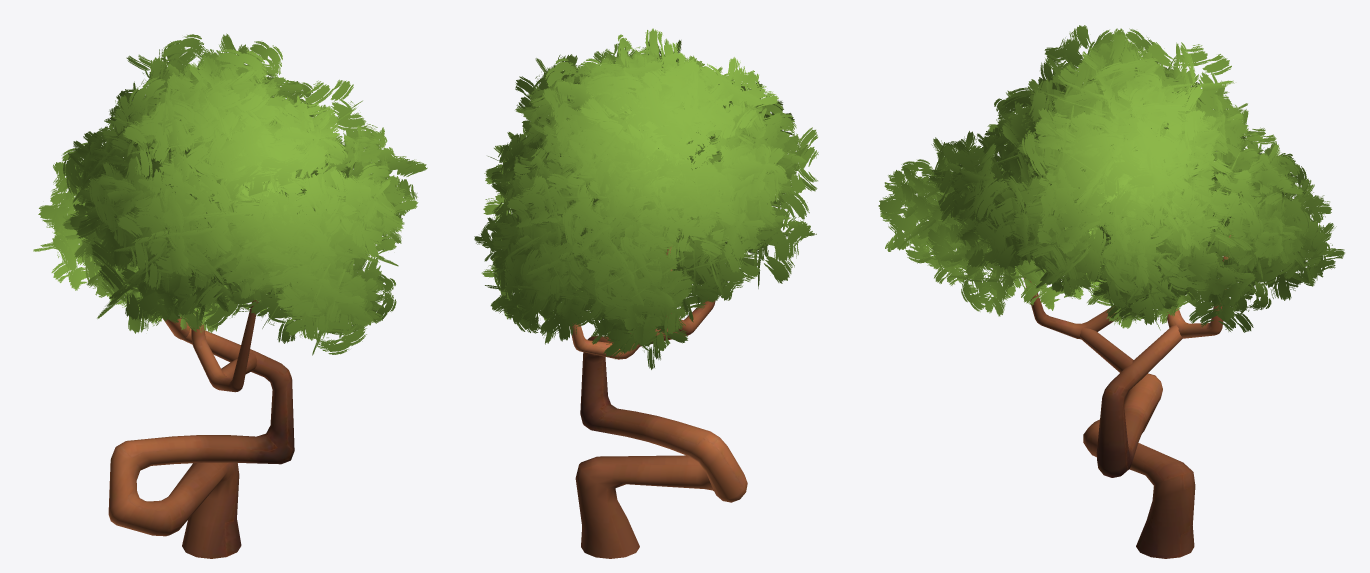
The model's file is STSwiggly3.glb.
3 renders of one model, left to right at view 1: azimuth 30°, elevation 25°; view 2: azimuth 150°, elevation 25°; view 3: azimuth 270°, elevation 25°, orthographic. The views are drawn at different scales.
Parts seen in each view (by area): view 1: STSwiggly3_Leaves, STSwiggly3_Trunk; view 2: STSwiggly3_Leaves, STSwiggly3_Trunk; view 3: STSwiggly3_Leaves, STSwiggly3_Trunk.
Part boxes in pixels (box(x1,y1,x2,y2)): STSwiggly3_Leaves: box(33, 33, 427, 355); STSwiggly3_Trunk: box(108, 300, 294, 558); STSwiggly3_Leaves: box(474, 28, 818, 369); STSwiggly3_Trunk: box(570, 247, 747, 558); STSwiggly3_Leaves: box(878, 25, 1344, 332); STSwiggly3_Trunk: box(1023, 235, 1230, 558).
Bounding box in the file's own units: 4.74 × 7.06 × 6.17.
2 materials, 2 textured.
